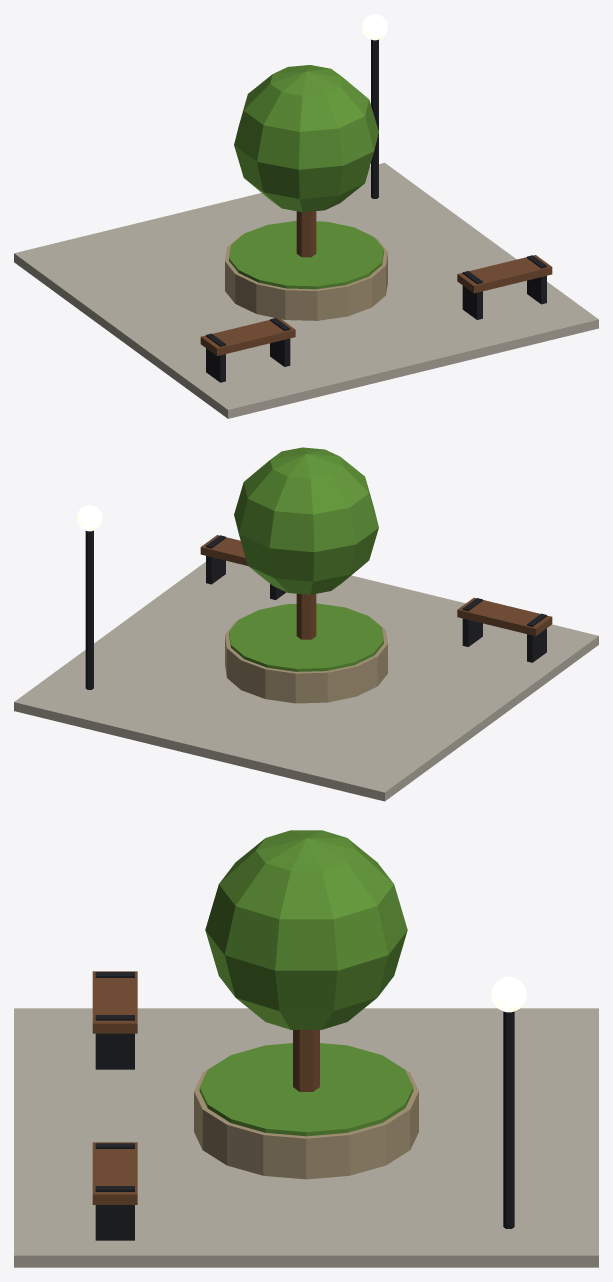
Rendered from subnet-lot.glb.
3 renders of one model, top to bottom at view 1: azimuth 30°, elevation 25°; view 2: azimuth 150°, elevation 25°; view 3: azimuth 270°, elevation 25°, orthographic. The views are drawn at different scales.
Parts seen in each view (by area): view 1: cw_paint, cw_glow; view 2: cw_paint, cw_glow; view 3: cw_paint, cw_glow.
Part boxes in pixels (box(x1,y1,x2,y2)): cw_paint: box(14, 39, 598, 418); cw_glow: box(362, 14, 387, 40); cw_paint: box(14, 447, 598, 801); cw_glow: box(76, 505, 102, 531); cw_paint: box(14, 830, 598, 1267); cw_glow: box(491, 976, 526, 1012).
Bounding box in the file's own units: 5.2 × 3 × 5.2.
